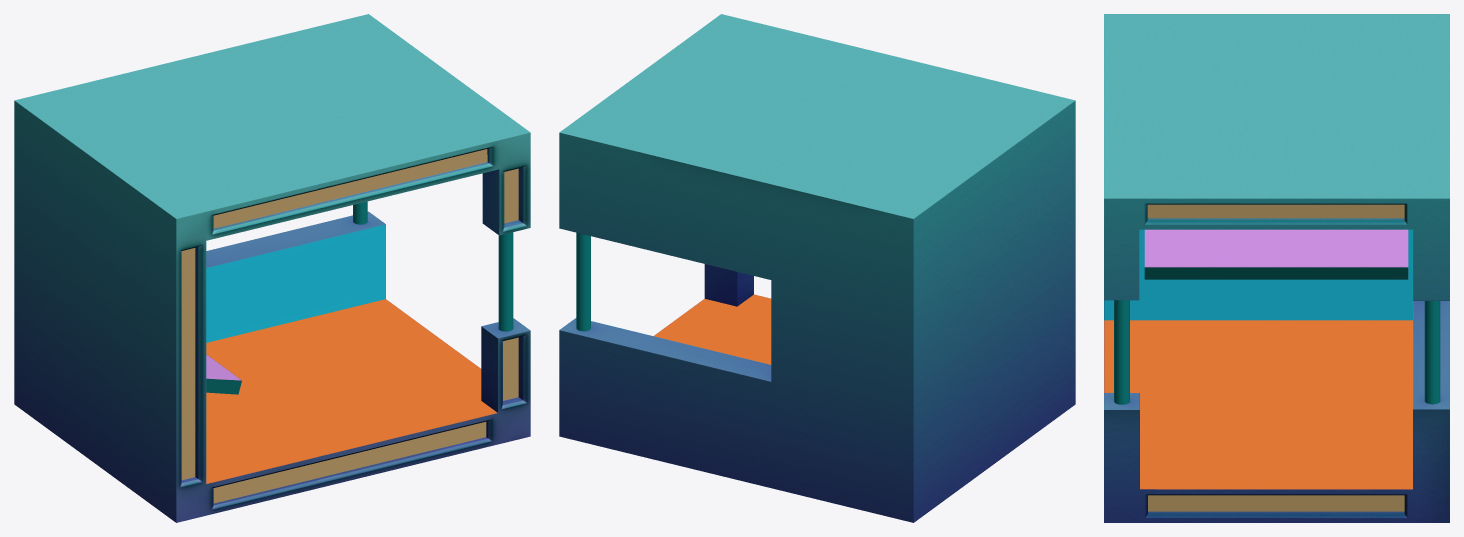
File: Bunker_L.fbx
3 views of the same model, side by side, from view 1: azimuth 30°, elevation 25°; view 2: azimuth 150°, elevation 25°; view 3: azimuth 270°, elevation 25° (orthographic). The views are drawn at different scales.
Parts seen in each view (by area): view 1: Bunker_L; view 2: Bunker_L; view 3: Bunker_L.
Boxes of the visible parts, x1,y1,x2,y2 form: Bunker_L: (14,14,530,522); Bunker_L: (559,14,1075,522); Bunker_L: (1104,14,1449,522).
Size of the model in its own units: 365 by 299 by 289.
